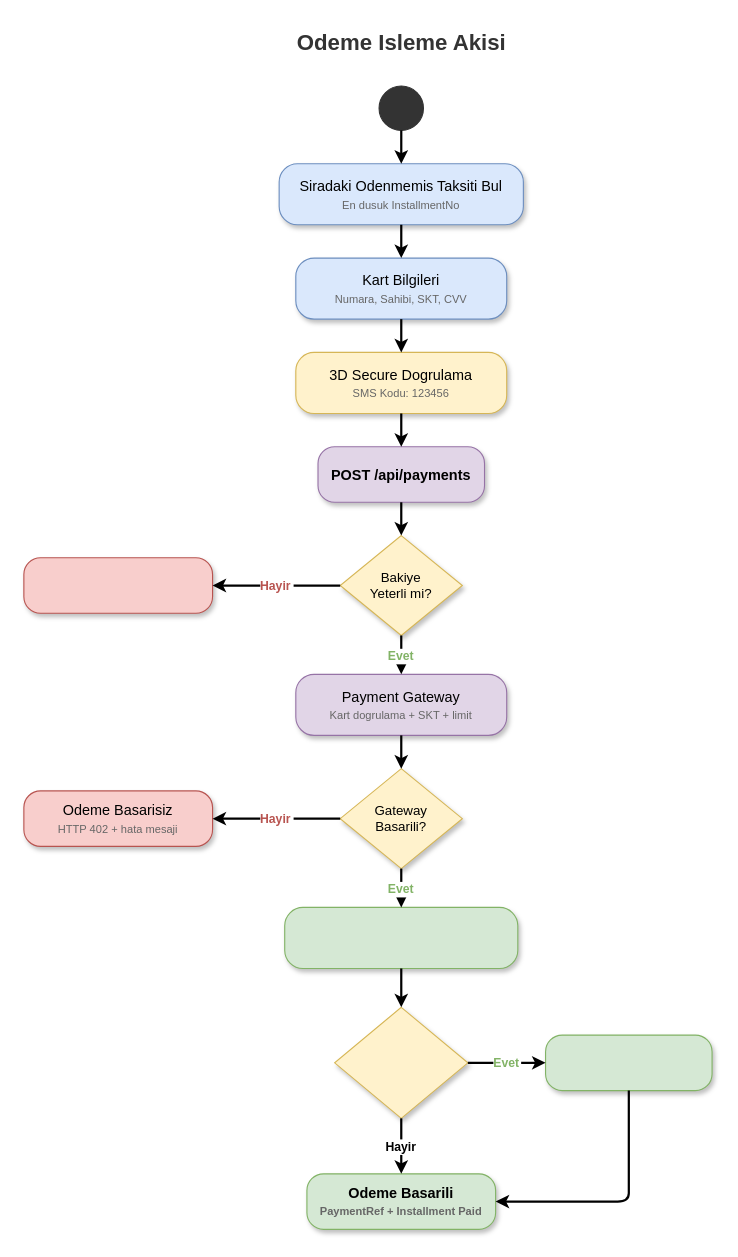
The diagram is 738 pixels wide and 1257 high, and some of its shapes have lost their labels. Here are the shapes that lost their labels. From the top down, the centre of each, then its label:
At (x=118, y=586): "Yetersiz Bakiye HTTP 422".
At (x=401, y=939): "Taksit Odemesi Tam tutar ile tek odeme, bakiyeden dus".
At (x=402, y=1064): "Tum Taksitler Odendi mi?".
At (x=629, y=1064): "Kredi Kapat Status = Closed".
